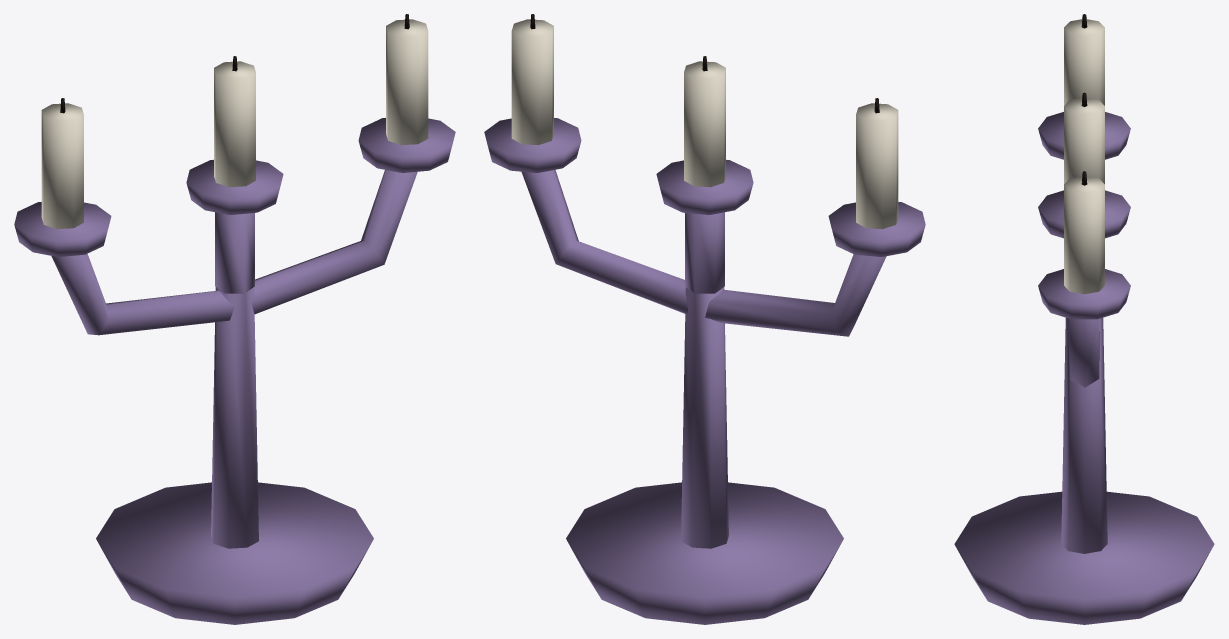
Rendered from ebonwood_candelabra_v0.glb.
3 renders of one model, left to right at view 1: azimuth 30°, elevation 25°; view 2: azimuth 150°, elevation 25°; view 3: azimuth 270°, elevation 25°, orthographic. The views are drawn at different scales.
Parts seen in each view (by area): view 1: ebonwood_candelabra_v0; view 2: ebonwood_candelabra_v0; view 3: ebonwood_candelabra_v0.
Boxes of the visible parts, bbox=[...] form: ebonwood_candelabra_v0: bbox=[14, 14, 455, 624]; ebonwood_candelabra_v0: bbox=[484, 14, 925, 624]; ebonwood_candelabra_v0: bbox=[954, 14, 1214, 624].
Size of the model in its own units: 0.4951 by 0.575 by 0.28.
